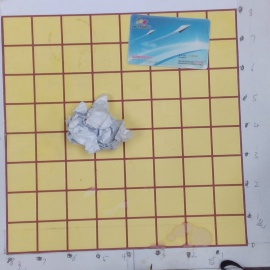card: (127, 12, 211, 69)
